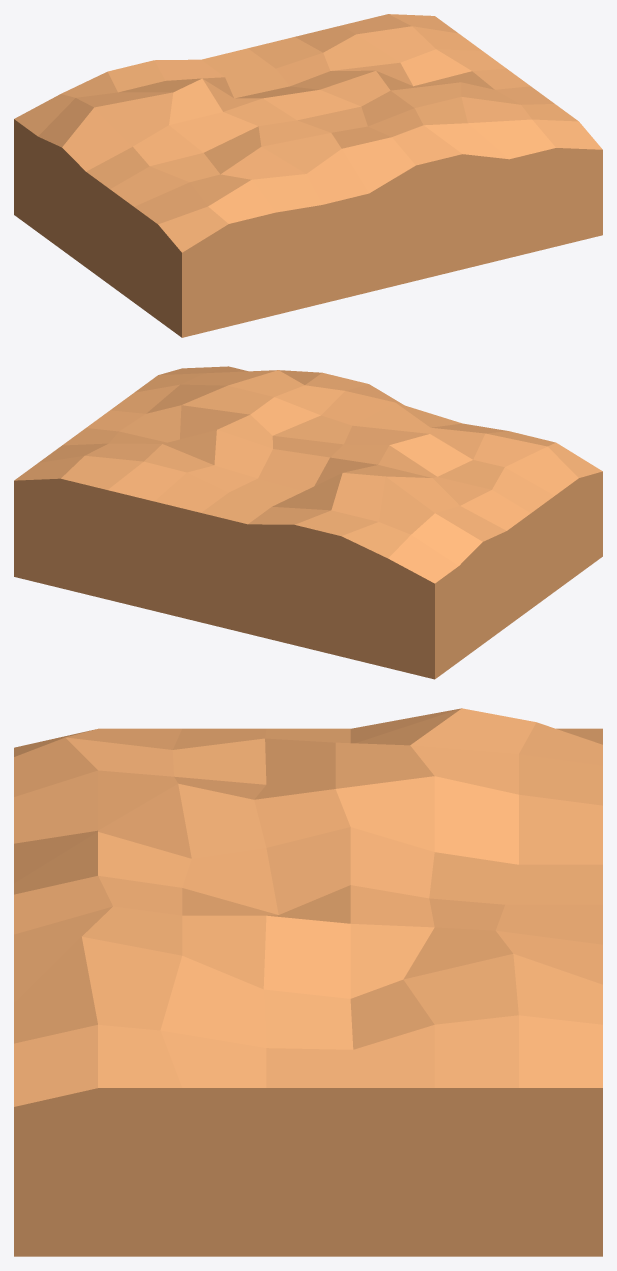
The model's file is ground3.fbx.
3 renders of one model, top to bottom at view 1: azimuth 30°, elevation 25°; view 2: azimuth 150°, elevation 25°; view 3: azimuth 270°, elevation 25°, orthographic. The views are drawn at different scales.
Visible parts, largest first — view 1: pCube1; view 2: pCube1; view 3: pCube1.
Boxes of the visible parts, x1,y1,x2,y2 form: pCube1: [14, 14, 602, 337]; pCube1: [14, 366, 602, 679]; pCube1: [14, 708, 602, 1256].
Bounding box in the file's own units: 14.46 × 4.51 × 10.
